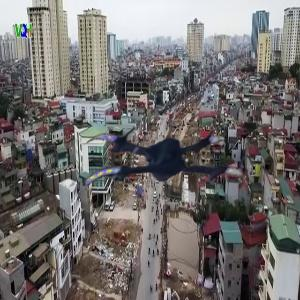drone: (83, 98, 240, 255)
